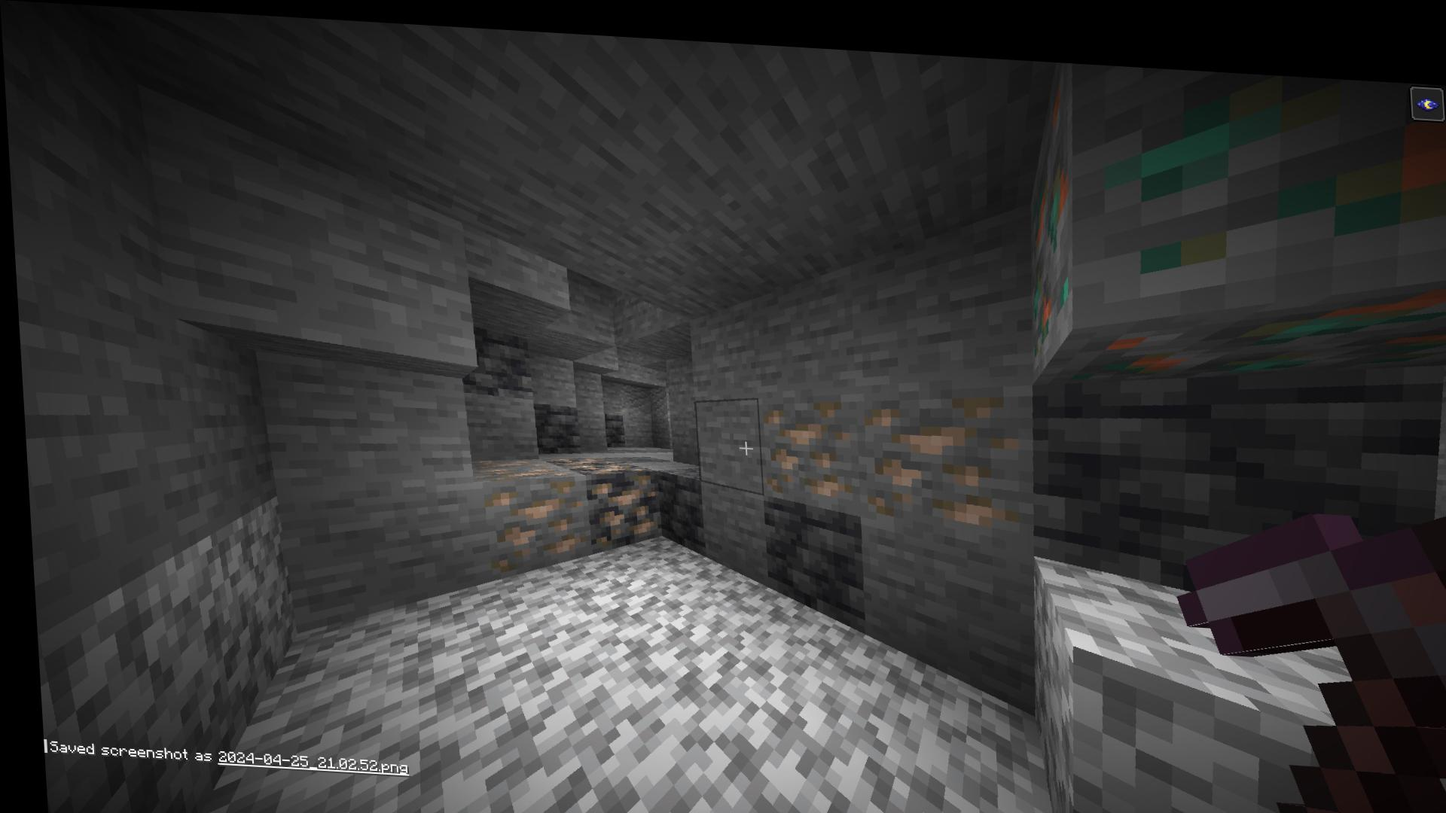iron ore: (851, 387, 1023, 534), (469, 448, 587, 579), (751, 386, 854, 496)
